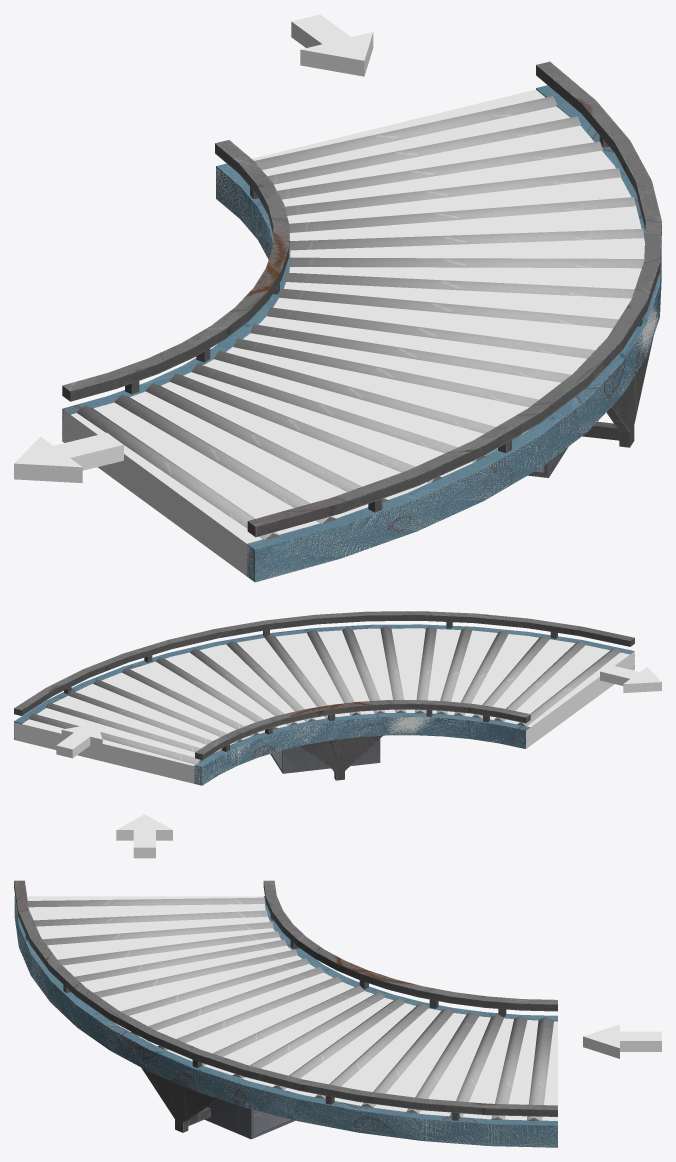
Rendered from rollerconveyor90.glb.
The picture shows the model from 3 angles, top to bottom: view 1: azimuth 30°, elevation 25°; view 2: azimuth 150°, elevation 25°; view 3: azimuth 270°, elevation 25°; orthographic projection. The views are drawn at different scales.
Visible parts, largest first — view 1: Roller90, Roller90_Col, ghostarrow, ghostarrow (1); view 2: Roller90, Roller90_Col, ghostarrow, ghostarrow (1); view 3: Roller90, Roller90_Col, ghostarrow (1), ghostarrow.
Part boxes in pixels (left/top/right/bottom): Roller90: left=62, top=61, right=661, bottom=582; Roller90_Col: left=62, top=89, right=661, bottom=581; ghostarrow: left=14, top=433, right=123, bottom=483; ghostarrow (1): left=291, top=14, right=373, bottom=76; Roller90: left=14, top=611, right=634, bottom=785; Roller90_Col: left=14, top=628, right=634, bottom=785; ghostarrow: left=600, top=664, right=661, bottom=692; ghostarrow (1): left=56, top=723, right=102, bottom=758; Roller90: left=14, top=880, right=557, bottom=1147; Roller90_Col: left=14, top=896, right=557, bottom=1147; ghostarrow (1): left=583, top=1024, right=661, bottom=1058; ghostarrow: left=116, top=814, right=172, bottom=858.
Size of the model in its own units: 2.38 by 0.4329 by 2.35.
Materials: 4 (2 with a texture image).
